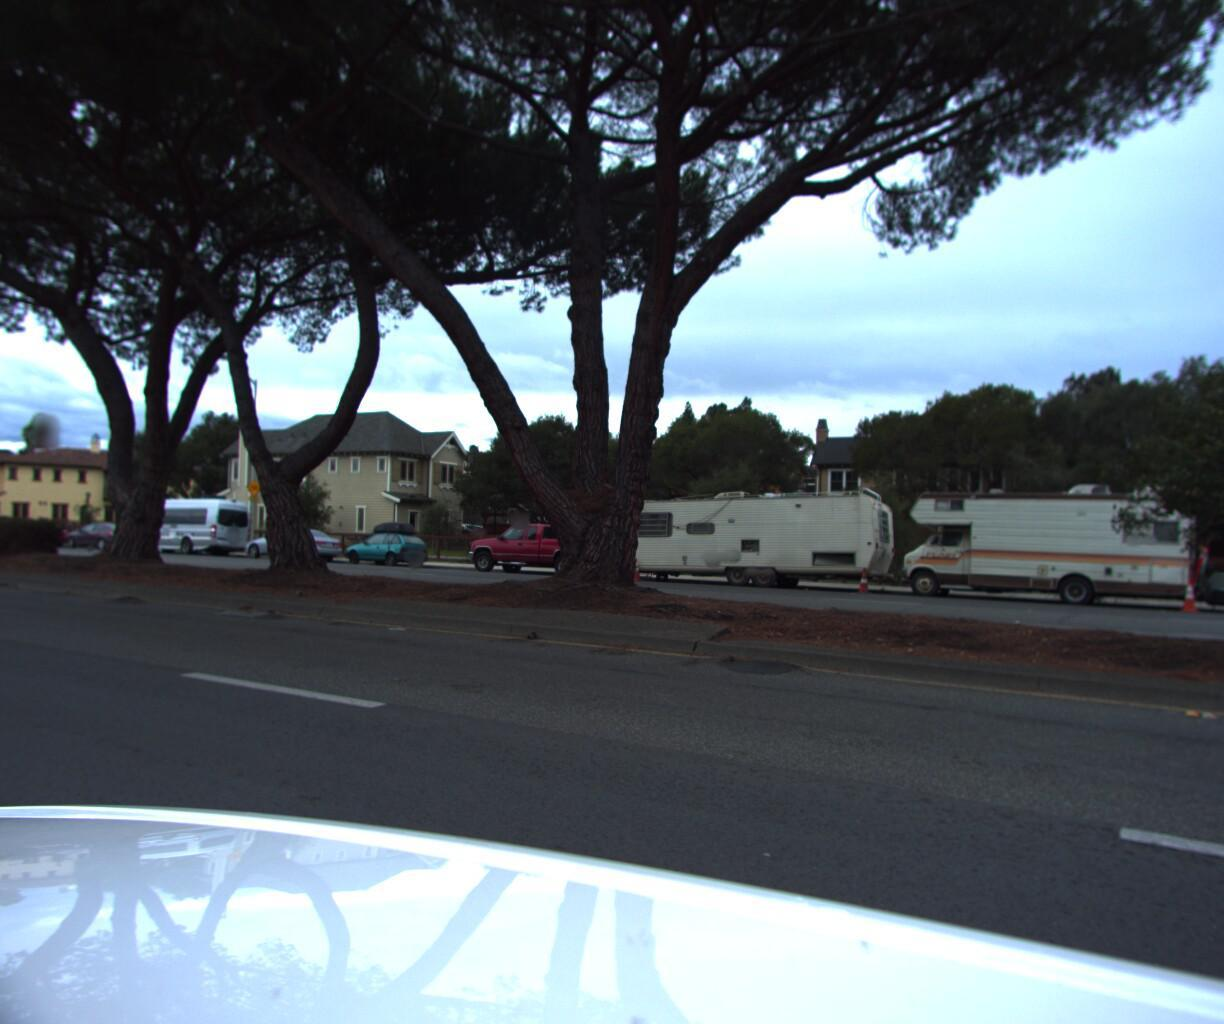car: (449, 520, 624, 582), (109, 494, 256, 560), (329, 520, 434, 571), (228, 525, 345, 565), (51, 522, 142, 555)
other_vehicle: (885, 470, 1224, 620), (584, 481, 903, 604)
